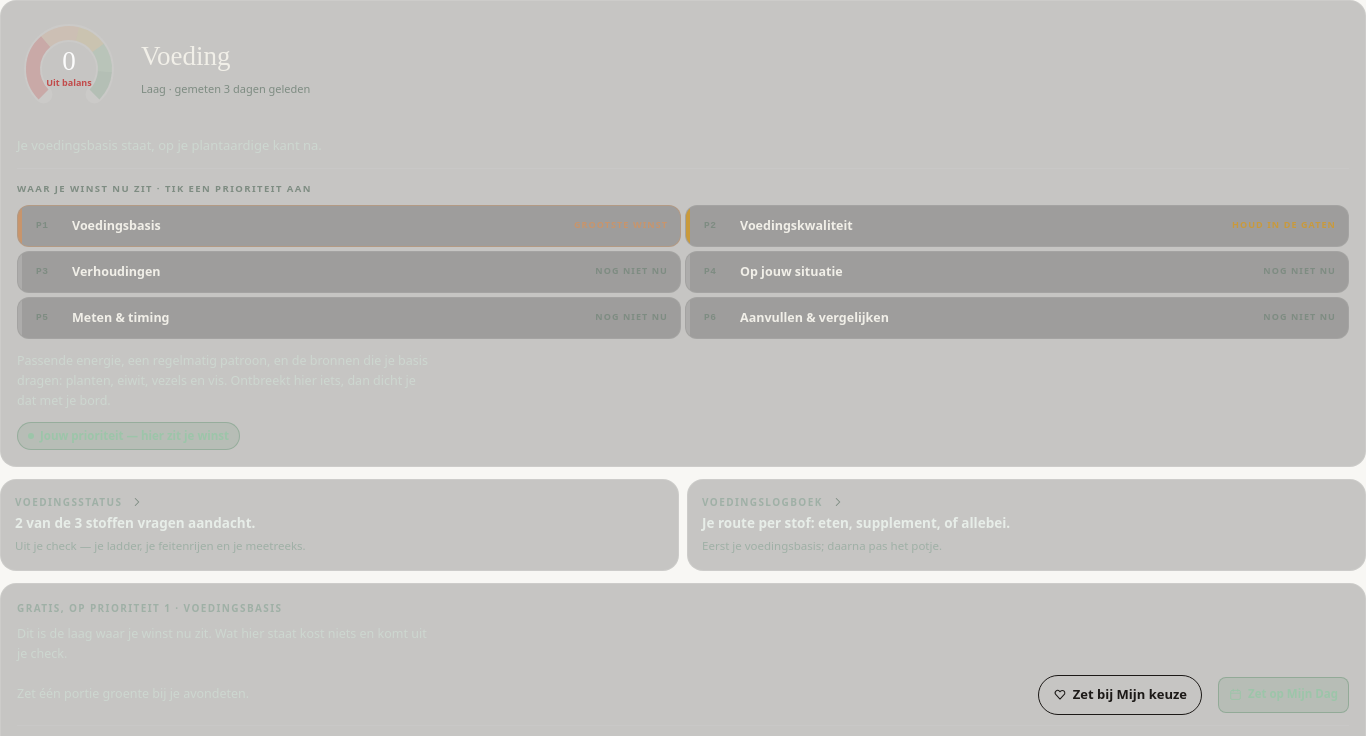
Test case: DomainKompasScreen — voeding draagt het tweeluik in plaats van het volle logboek › laat de prioriteitsknop meebewegen met de laag die je aanklikt
Expected: the text "Jouw prioriteit — hier zit je winst" is shown, [17,422,240,450]
Click the button "P2 Voedingskwaliteit Houd in de gaten": coordinates (796, 225) [686,206,1348,246]
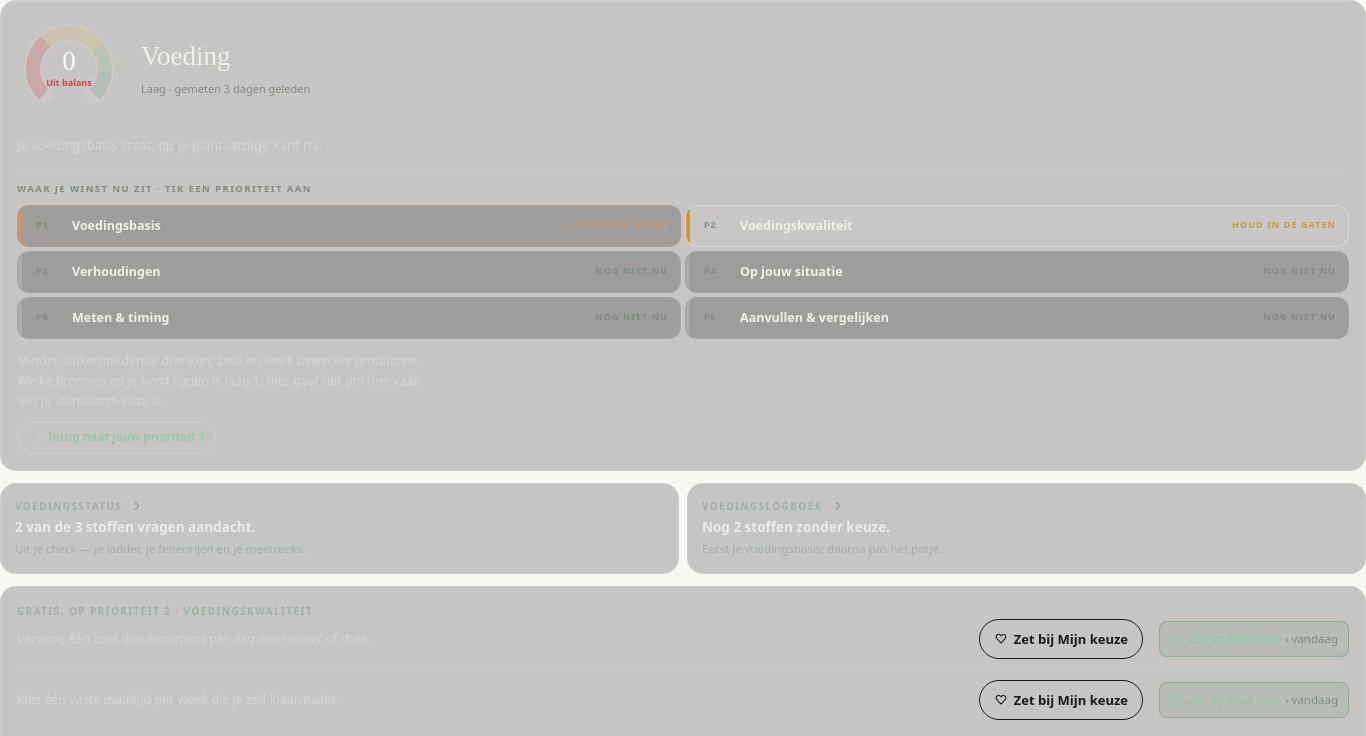
Result: the button "Terug naar jouw prioriteit 1" is shown at [17,422,216,454]
